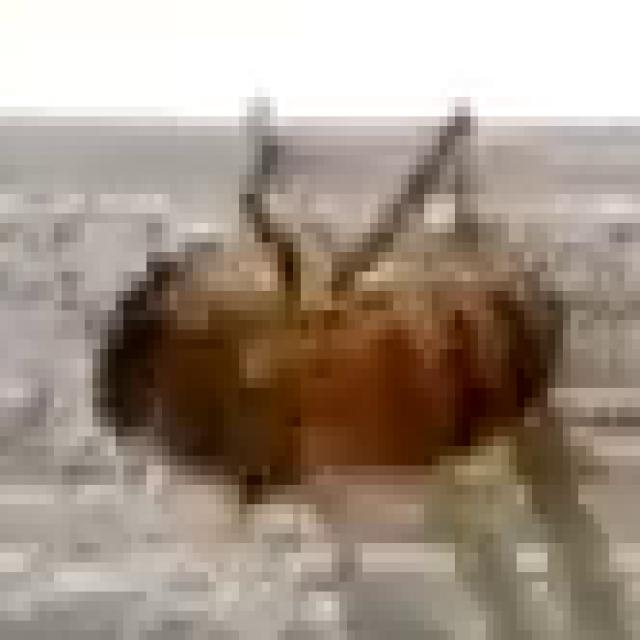honeybee: (100, 180, 606, 570)
